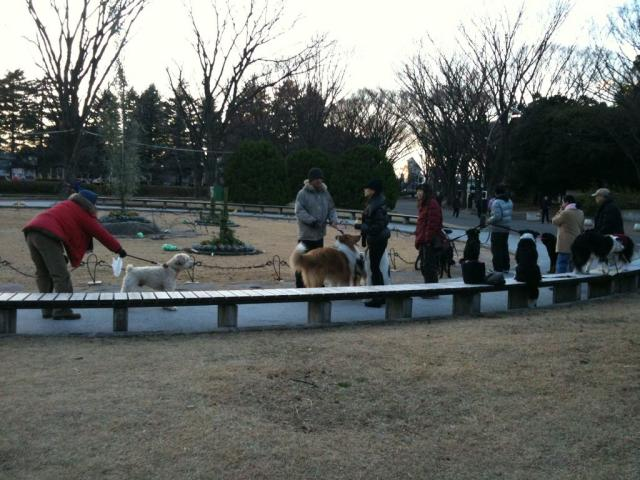Dog: (122, 254, 193, 312), (288, 233, 360, 287), (571, 232, 624, 278), (515, 228, 541, 306), (358, 248, 394, 284), (459, 229, 480, 265), (438, 238, 455, 280), (542, 232, 557, 274)
